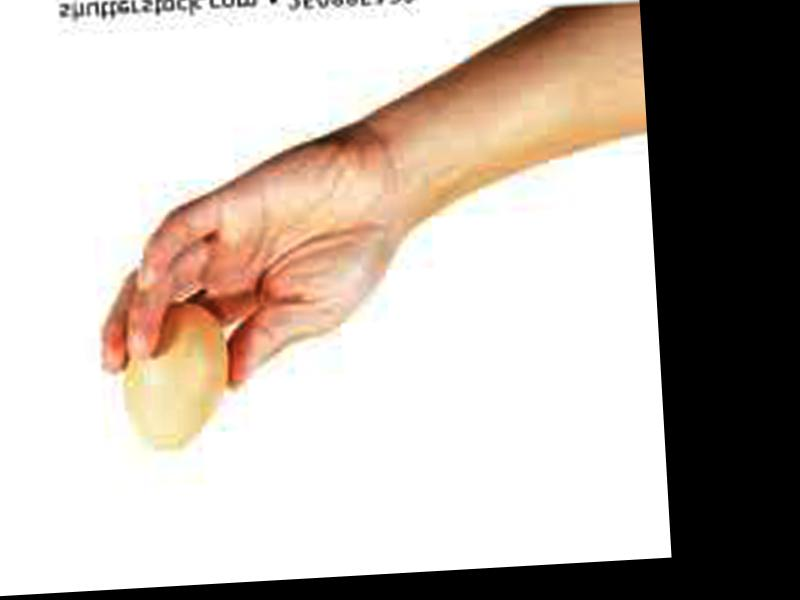Eggs: (119, 294, 233, 455)
